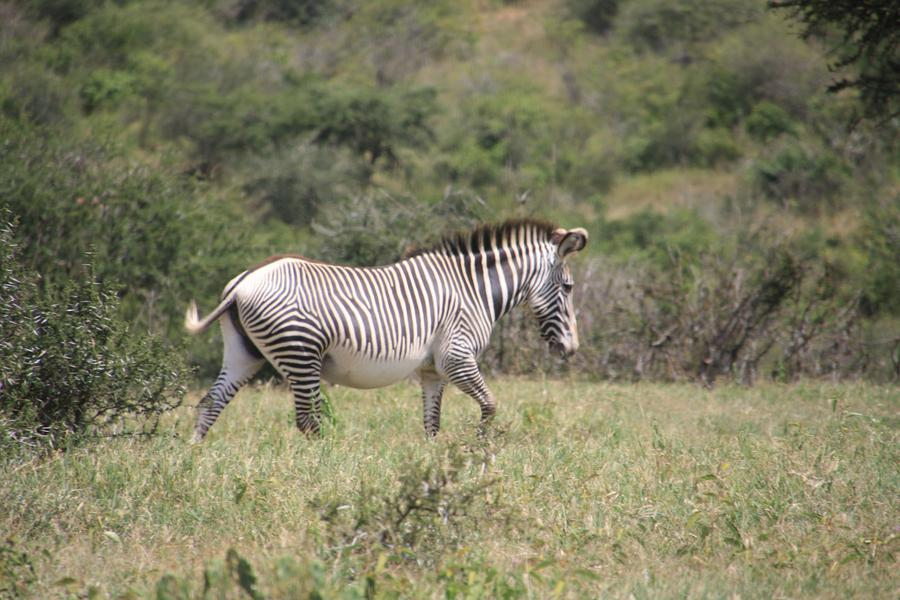zebra_grevys: (235, 257, 478, 354)
